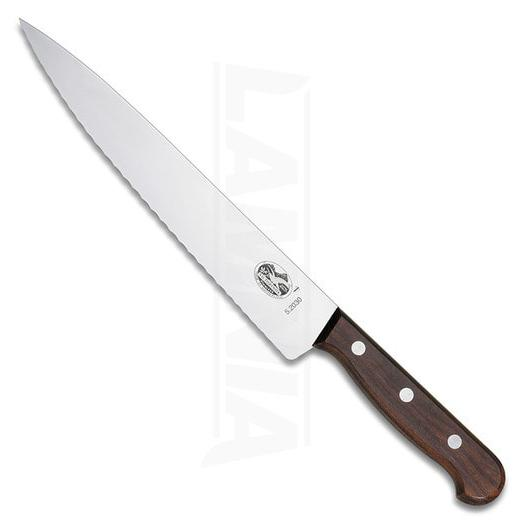knife: (17, 19, 505, 507)
